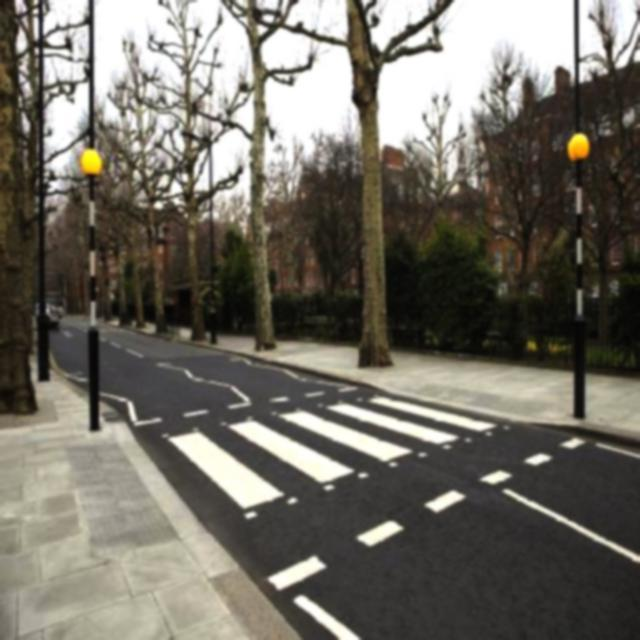Pedestrian crosswalk: (146, 391, 503, 528)
